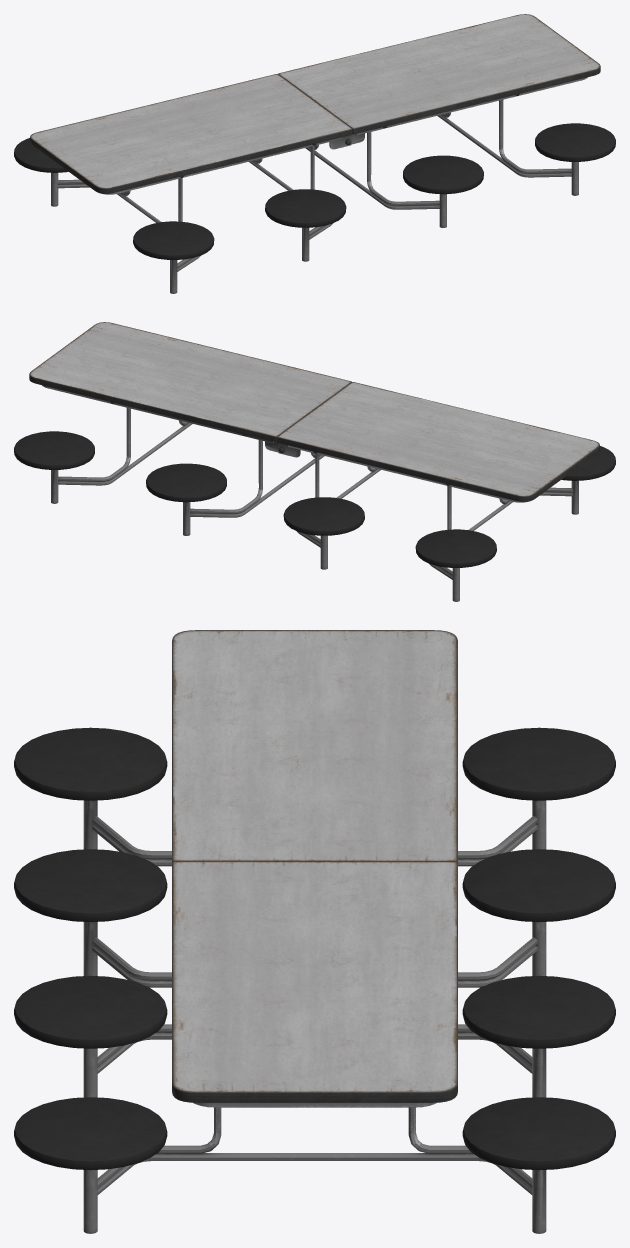
File: Meal table.fbx
3 renders of one model, top to bottom at view 1: azimuth 30°, elevation 25°; view 2: azimuth 150°, elevation 25°; view 3: azimuth 270°, elevation 25°, orthographic. The views are drawn at different scales.
Parts seen in each view (by area): view 1: SM_DiningTable_Material #26_0; view 2: SM_DiningTable_Material #26_0; view 3: SM_DiningTable_Material #26_0.
Boxes of the visible parts, x1=… form: SM_DiningTable_Material #26_0: x1=14, y1=14, x2=615, y2=293; SM_DiningTable_Material #26_0: x1=14, y1=322, x2=615, y2=601; SM_DiningTable_Material #26_0: x1=14, y1=630, x2=615, y2=1233.
Size of the model in its own units: 383 by 71.46 by 210.
1 material, 1 textured.
